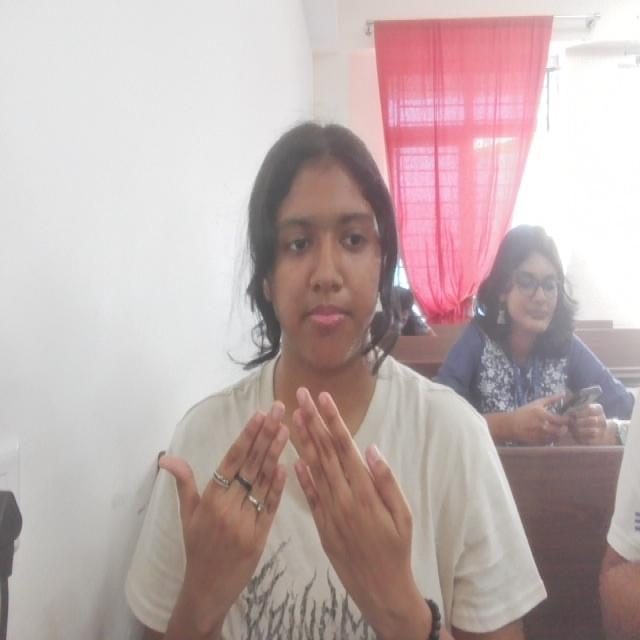thankyou: (156, 382, 416, 608)
